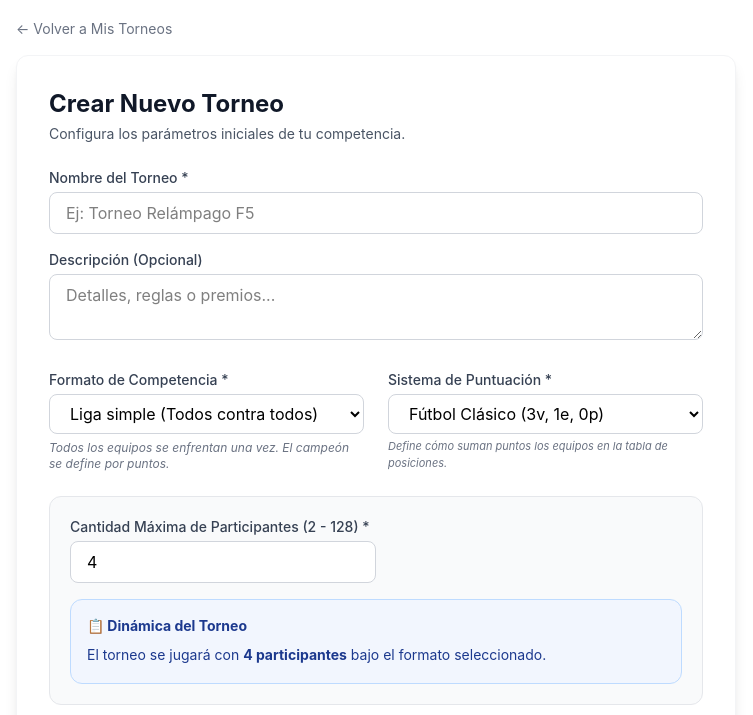
Test case: CrearTorneoView (Formulario) › envía lineaDeCorte e idaYVuelta cuando se configura Liguilla + Playoffs y resetea al cambiar de formato
Later steps or results of the test are not shown.
Expected: the field labelled "jugar los cruces de eliminación" is not shown
Type "Copa Verano" into the field with placeholder "Ej: Torneo Relámpago F5" at coordinates (376, 213), box [49,192,703,234]
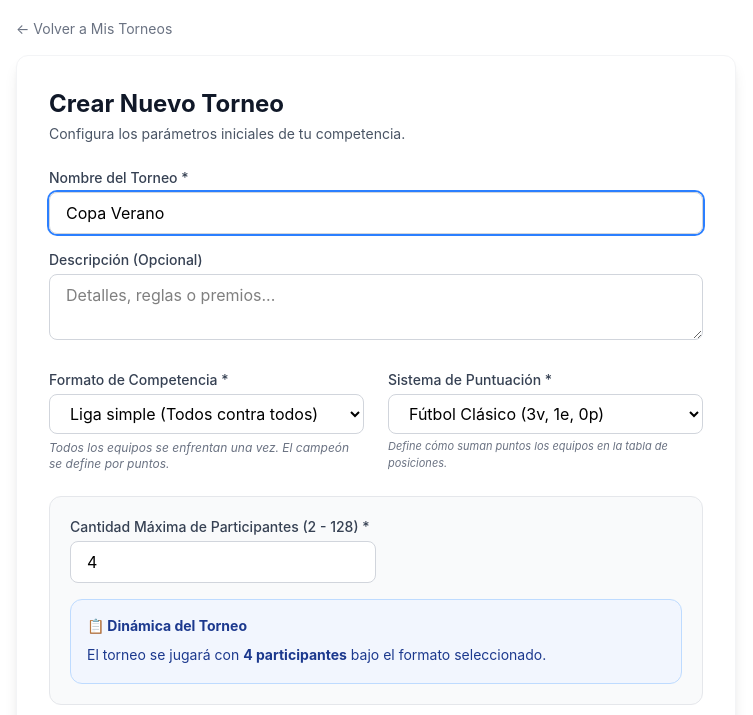
// Cambiar a Liguilla + Playoffs
Select "Liguilla + Playoffs" in the dropdown showing "liga simple" below "Formato de Competencia *" at coordinates (206, 414), box [49,394,364,434]
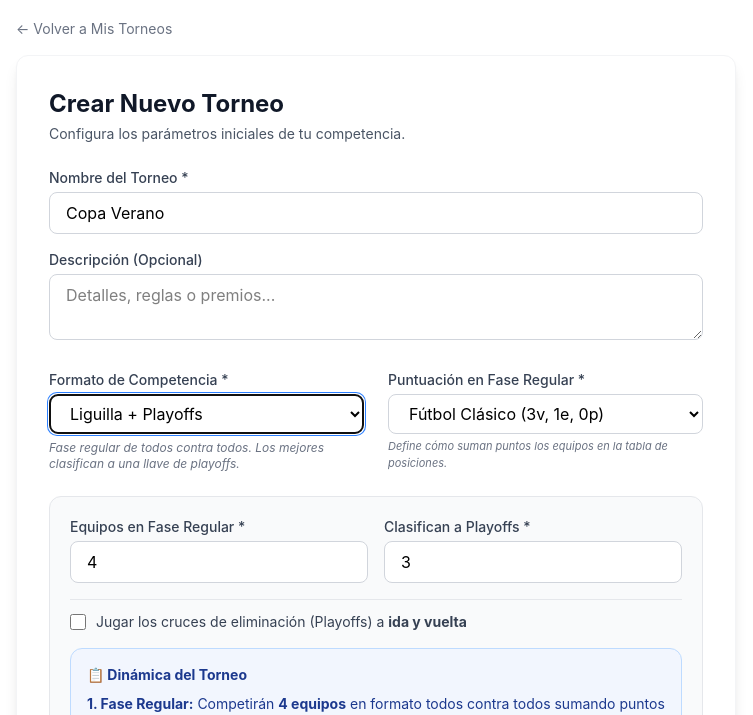
// Configurar 12 equipos y 4 clasificados
Replace the text in the number field with placeholder "Ej: 16" below "Equipos en Fase Regular *" with "12" at coordinates (219, 562), box [70,541,368,583]
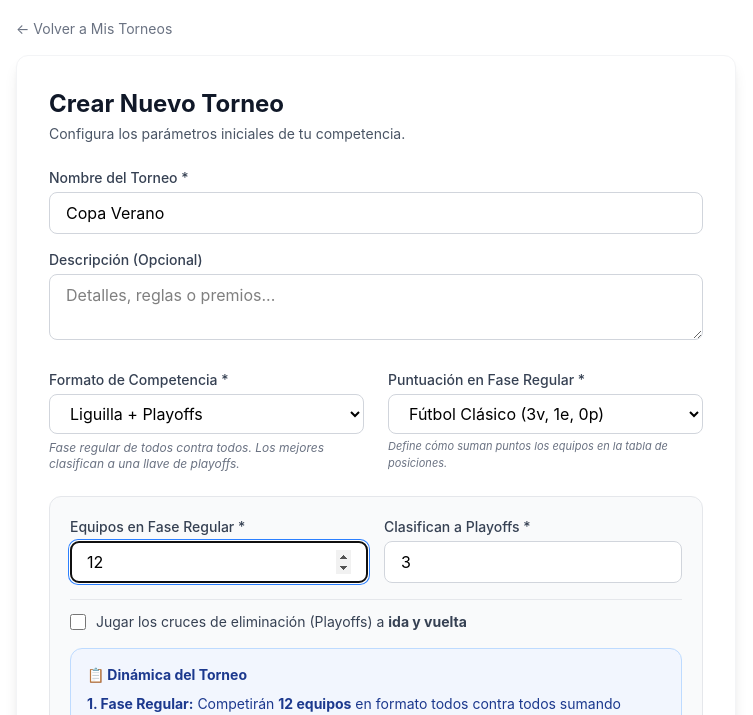
Replace the text in the number field with placeholder "Ej: 8" below "Clasifican a Playoffs *" with "4" at coordinates (533, 562), box [384,541,682,583]
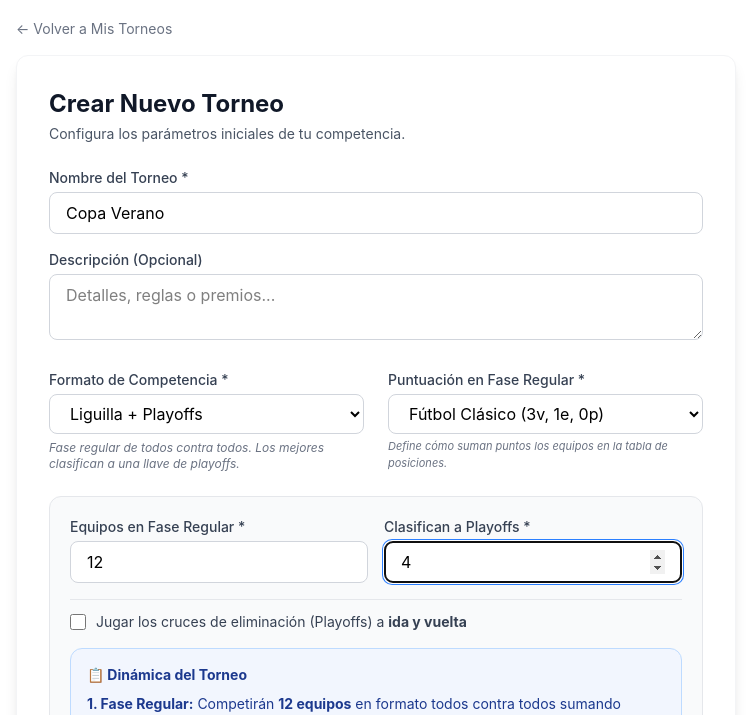
Click the checkbox labelled "Jugar los cruces de eliminación (Playoffs) a ida y vuelta" at coordinates (78, 622), box [70,614,86,630]
(page scrolled)
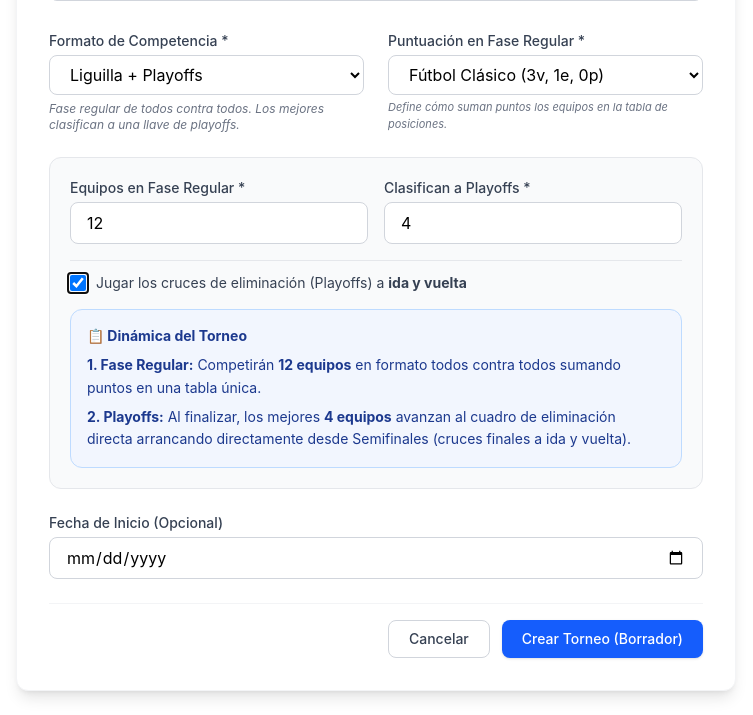
Expected: the checkbox labelled "Jugar los cruces de eliminación (Playoffs) a ida y vuelta" is checked, [70,275,86,291]
